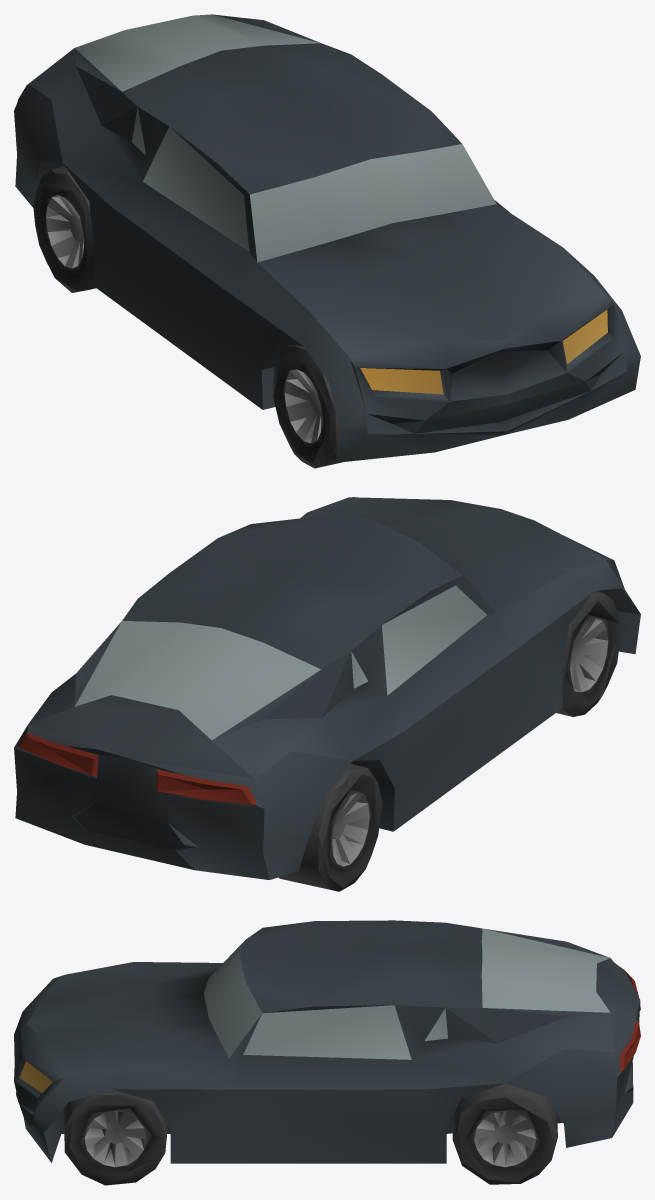
Rendered from Car6.fbx.
3 views of the same model, one above another, from view 1: azimuth 30°, elevation 25°; view 2: azimuth 150°, elevation 25°; view 3: azimuth 270°, elevation 25° (orthographic). The views are drawn at different scales.
Parts seen in each view (by area): view 1: Car 6; view 2: Car 6; view 3: Car 6.
Part boxes in pixels (x1,y1,x2,y2): Car 6: (14,14,640,468); Car 6: (14,497,640,891); Car 6: (14,920,640,1185).
Size of the model in its own units: 6.13 by 13.51 by 4.33.
